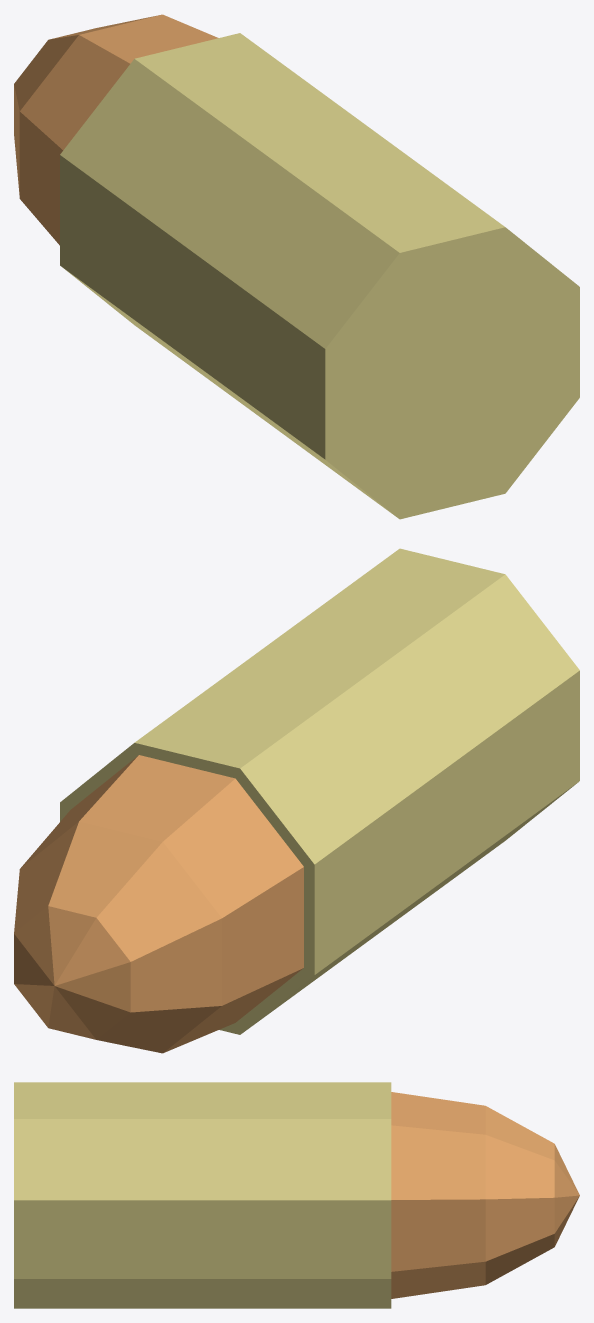
The model's file is ce_ammo_pistol_fmj_a.obj.
3 renders of one model, top to bottom at view 1: azimuth 30°, elevation 25°; view 2: azimuth 150°, elevation 25°; view 3: azimuth 270°, elevation 25°, orthographic. The views are drawn at different scales.
Visible parts, largest first — view 1: ce_ammo_pistol_fmj_a_0, ce_ammo_pistol_fmj_a_1, ce_ammo_pistol_fmj_a_2; view 2: ce_ammo_pistol_fmj_a_0, ce_ammo_pistol_fmj_a_1, ce_ammo_pistol_fmj_a_2, ce_ammo_pistol_fmj_a_3; view 3: ce_ammo_pistol_fmj_a_0, ce_ammo_pistol_fmj_a_1, ce_ammo_pistol_fmj_a_2, ce_ammo_pistol_fmj_a_3.
Boxes of the visible parts, box(x1,y1,x2,y2) form: ce_ammo_pistol_fmj_a_0: box(60, 33, 579, 519); ce_ammo_pistol_fmj_a_1: box(19, 14, 218, 245); ce_ammo_pistol_fmj_a_2: box(14, 15, 159, 194); ce_ammo_pistol_fmj_a_0: box(60, 548, 579, 1034); ce_ammo_pistol_fmj_a_1: box(21, 755, 303, 1052); ce_ammo_pistol_fmj_a_2: box(14, 821, 221, 1053); ce_ammo_pistol_fmj_a_3: box(14, 906, 130, 1039); ce_ammo_pistol_fmj_a_0: box(14, 1082, 391, 1308); ce_ammo_pistol_fmj_a_1: box(391, 1092, 485, 1298); ce_ammo_pistol_fmj_a_2: box(485, 1106, 554, 1284); ce_ammo_pistol_fmj_a_3: box(554, 1144, 579, 1246).
Bounding box in the file's own units: 0.1108 × 0.1108 × 0.3.
